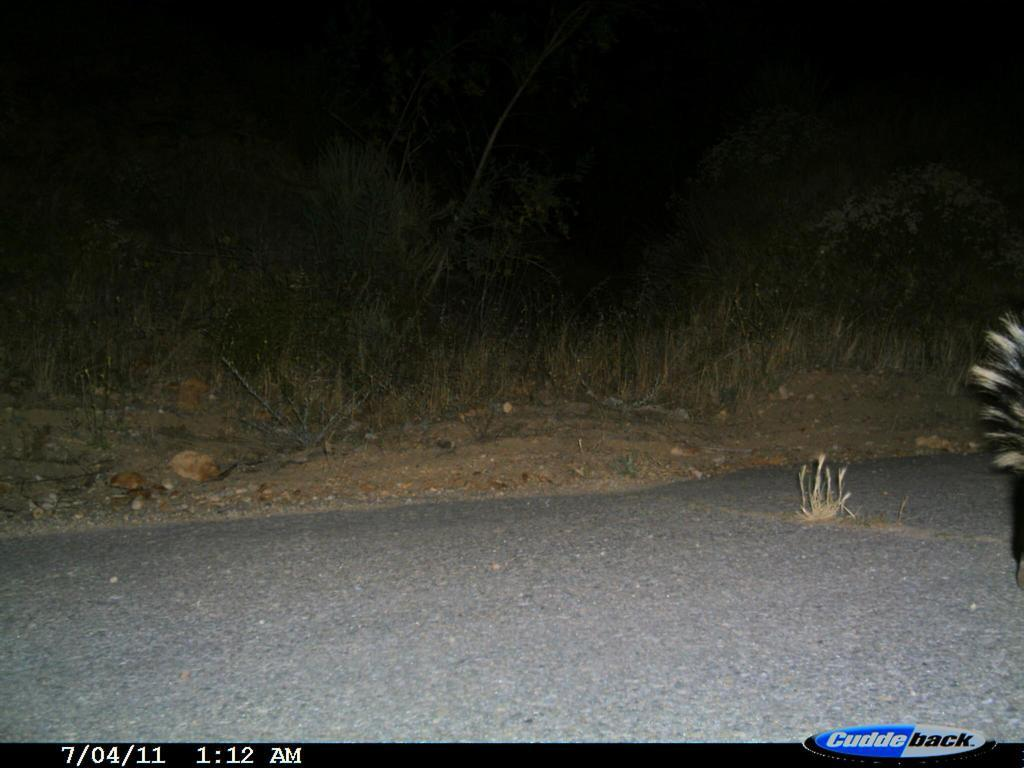skunk: (968, 301, 1023, 609)
